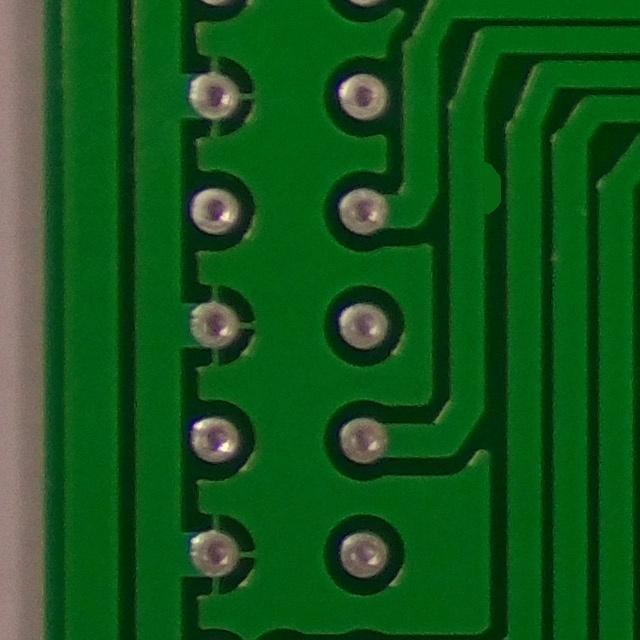spur: (461, 151, 515, 230)
